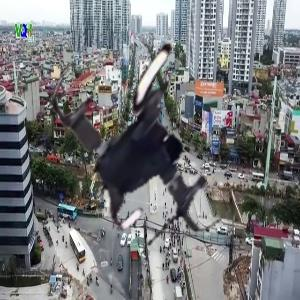drone: (38, 19, 273, 254)
